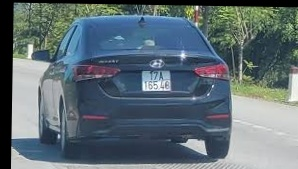Bien-so: (130, 68, 162, 90)
